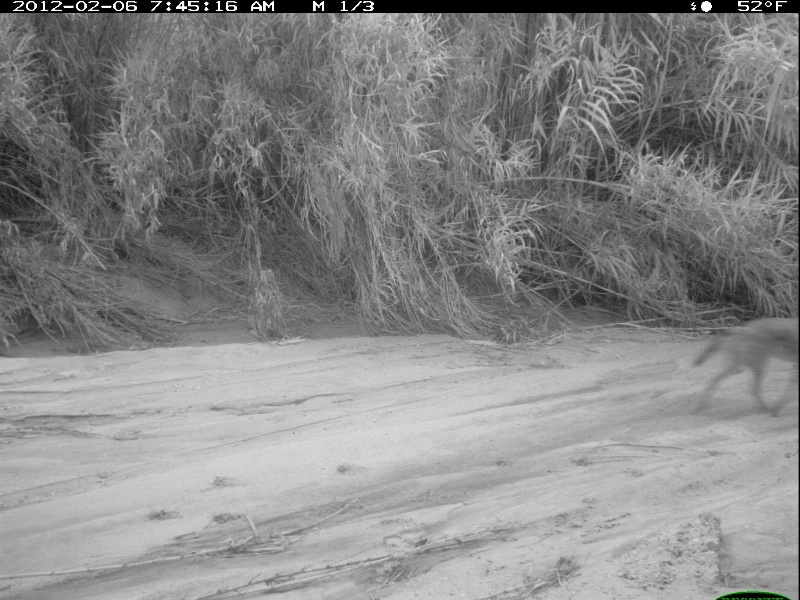coyote: (689, 313, 800, 422)
